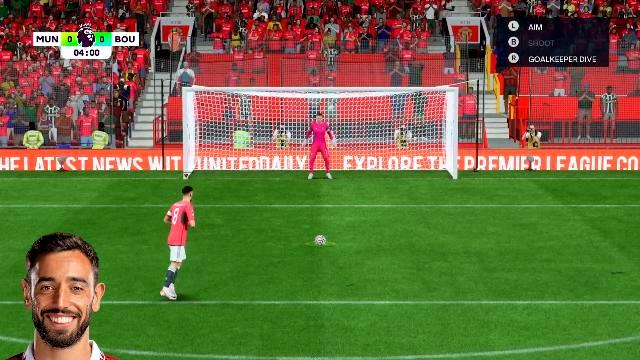bottom-left: (188, 138, 270, 180)
bottom-right: (368, 138, 452, 180)
center-down: (273, 138, 367, 180)
center-up: (272, 92, 366, 138)
circle: (306, 240, 334, 246)
football: (458, 154, 472, 164), (315, 234, 327, 245)
goalkeeper: (303, 113, 337, 181)
player: (159, 185, 201, 301)
top-left: (188, 91, 270, 137)
top-right: (367, 90, 453, 138)
